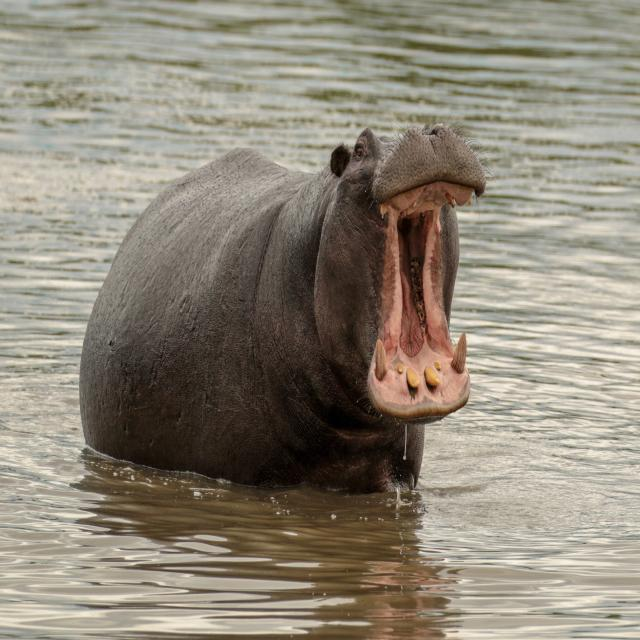hippopotamus: (79, 124, 486, 492)
